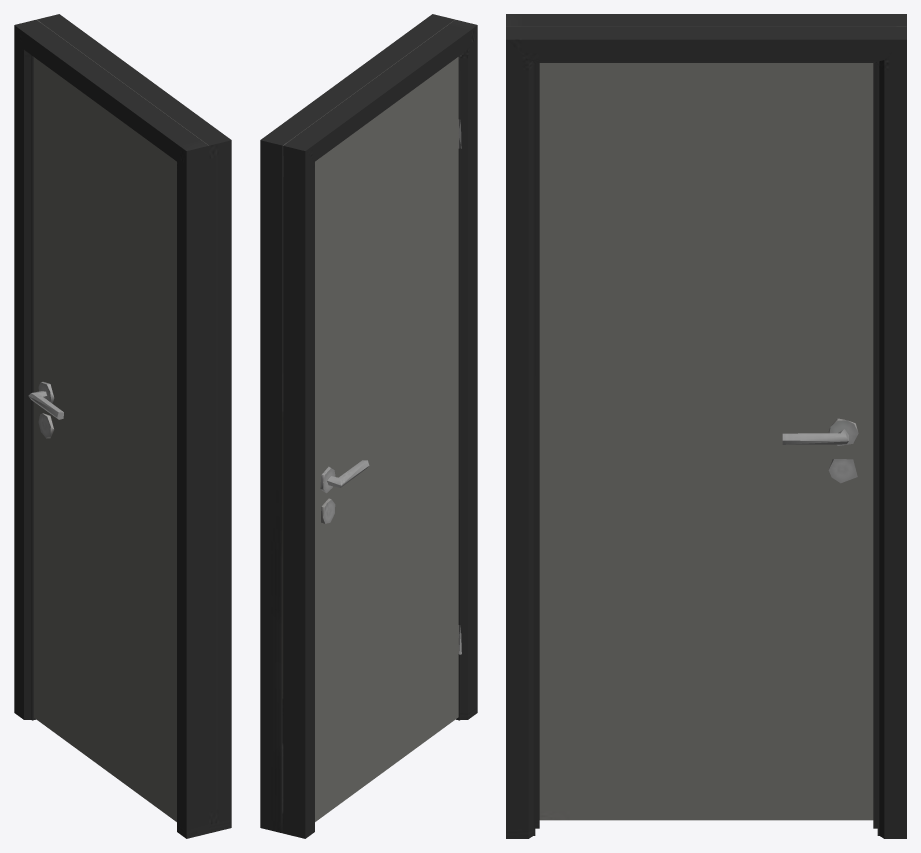
File: Door0012.obj
3 renders of one model, left to right at view 1: azimuth 30°, elevation 25°; view 2: azimuth 150°, elevation 25°; view 3: azimuth 270°, elevation 25°, orthographic. The views are drawn at different scales.
Bounding box in the file's own units: 0.181 × 2.12 × 0.964.
Materials: 1 (1 with a texture image).
